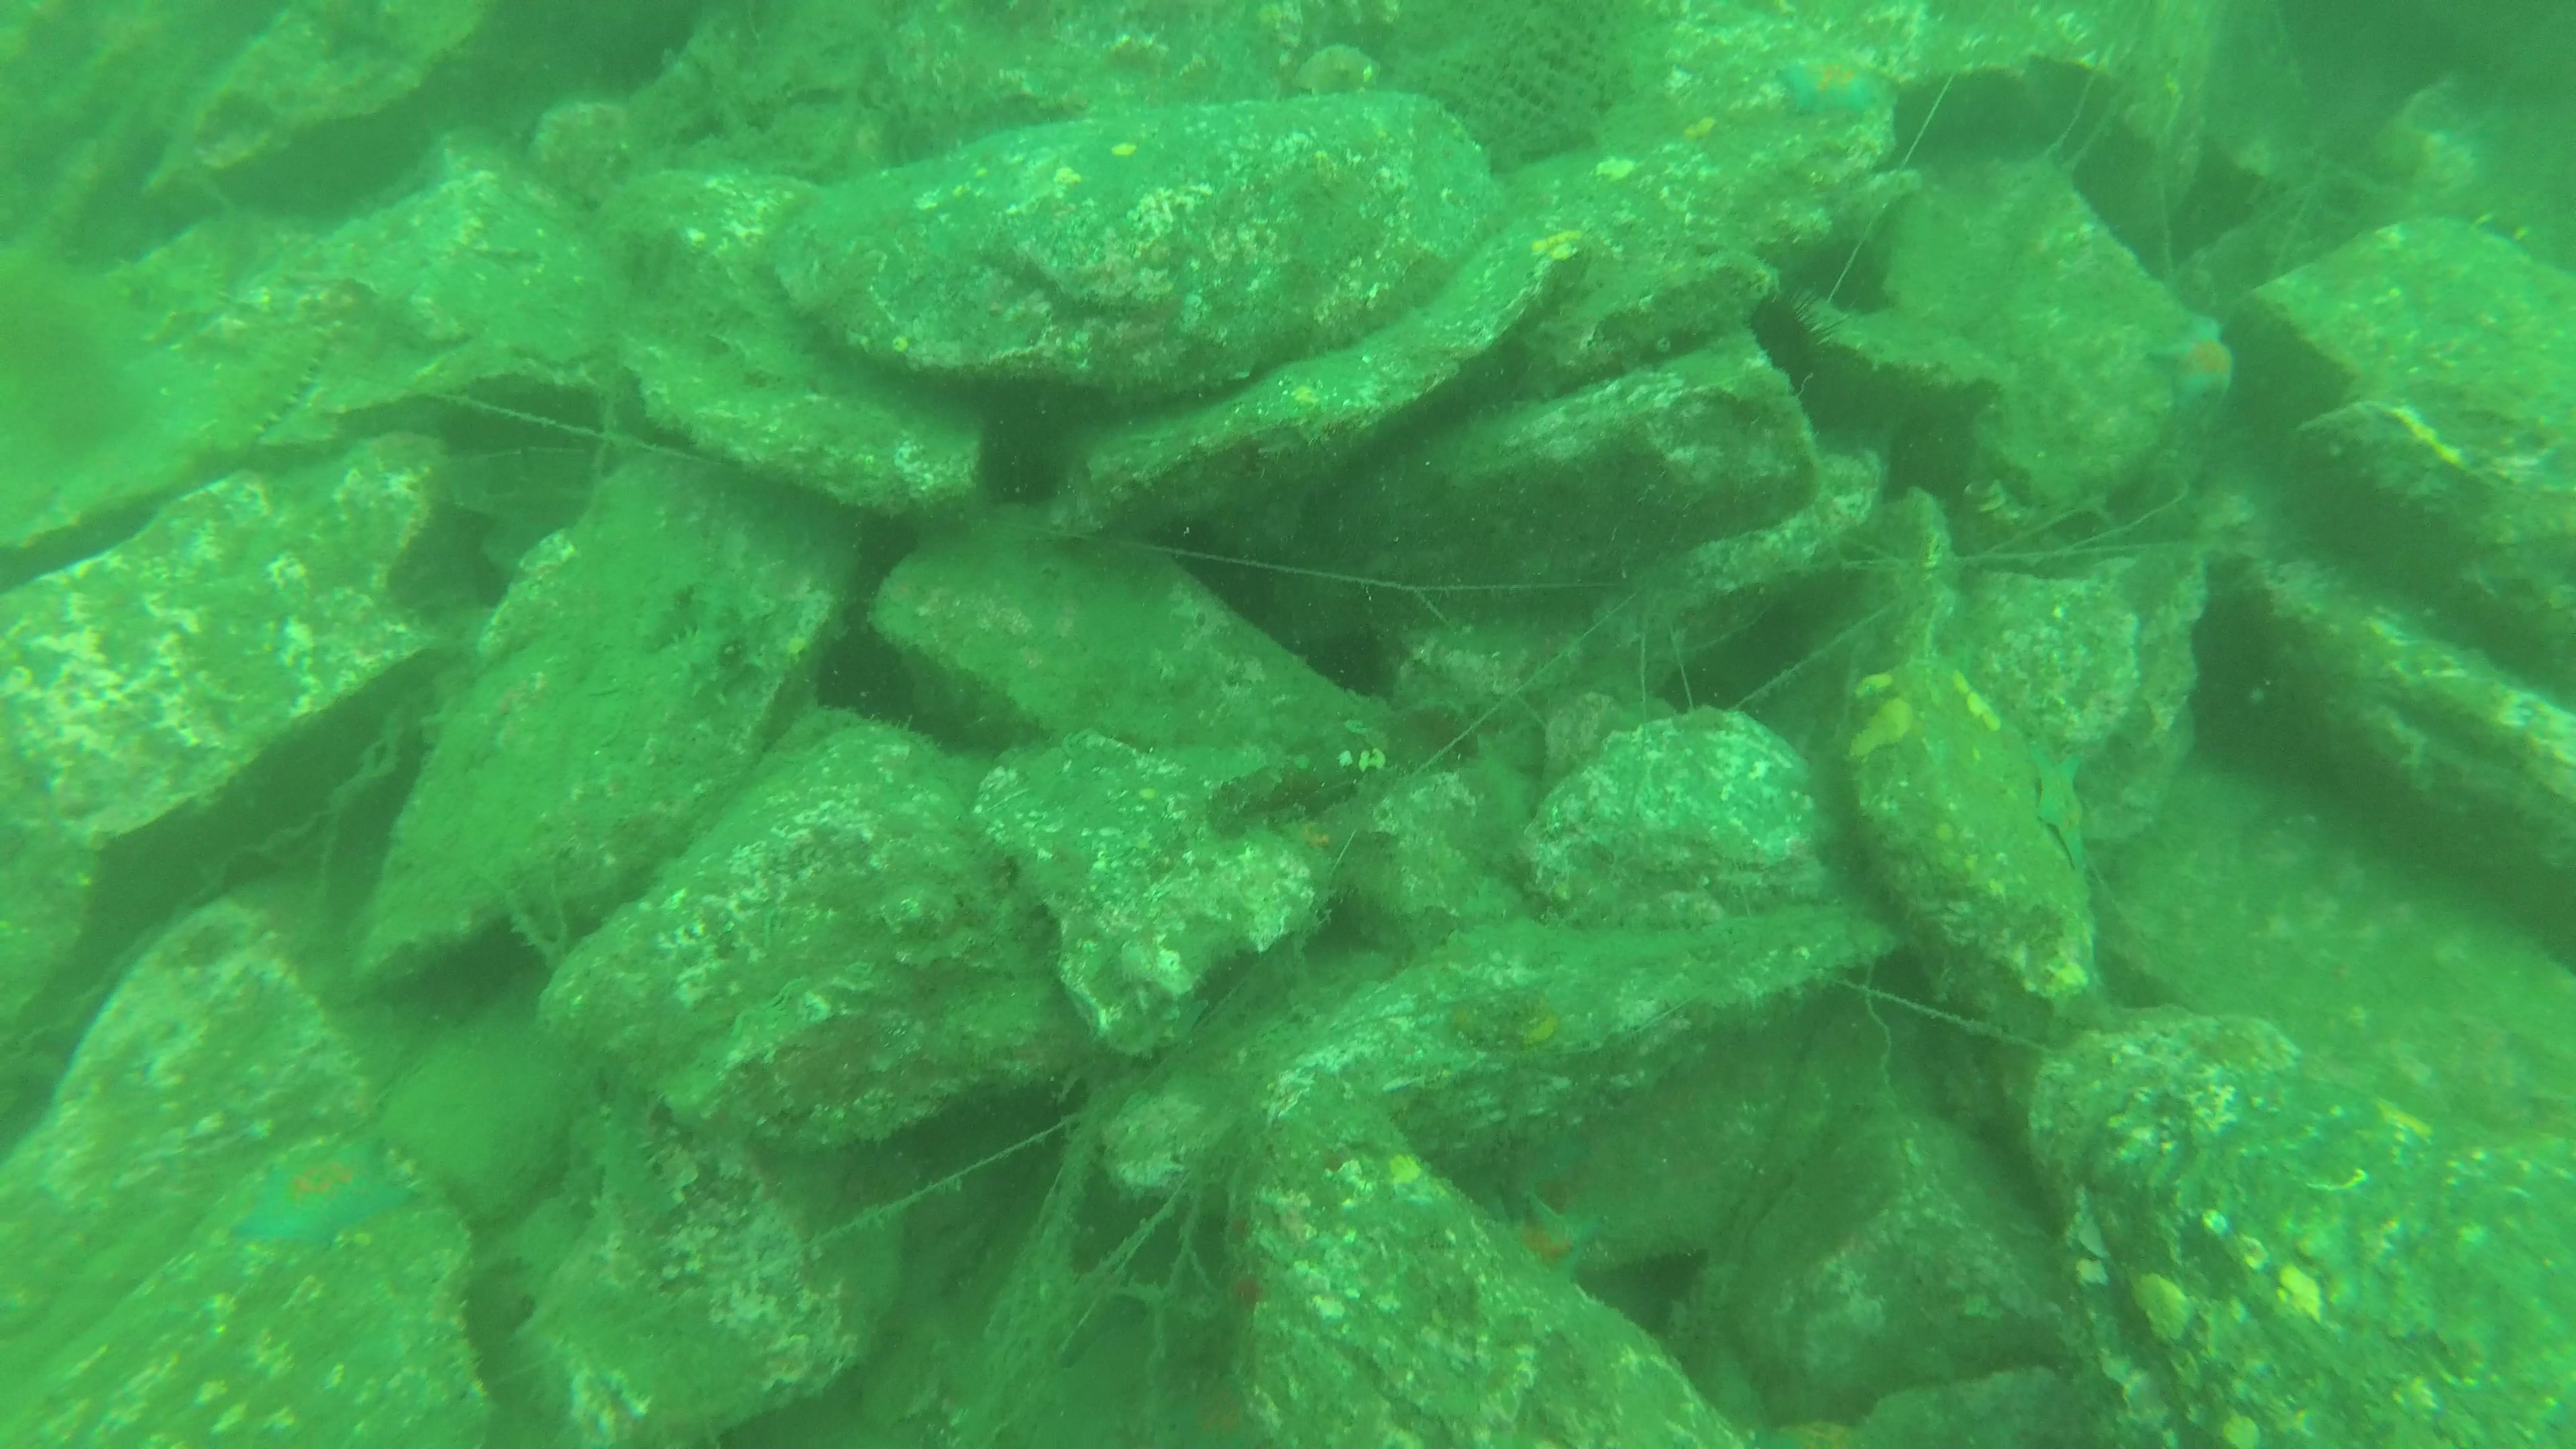echinus: (1723, 287, 1835, 395)
holothurian: (203, 329, 329, 464), (101, 258, 234, 322)
starfish: (235, 1131, 416, 1247), (1495, 1194, 1599, 1299), (2028, 747, 2089, 872), (2153, 311, 2236, 403), (1780, 58, 1884, 120)
